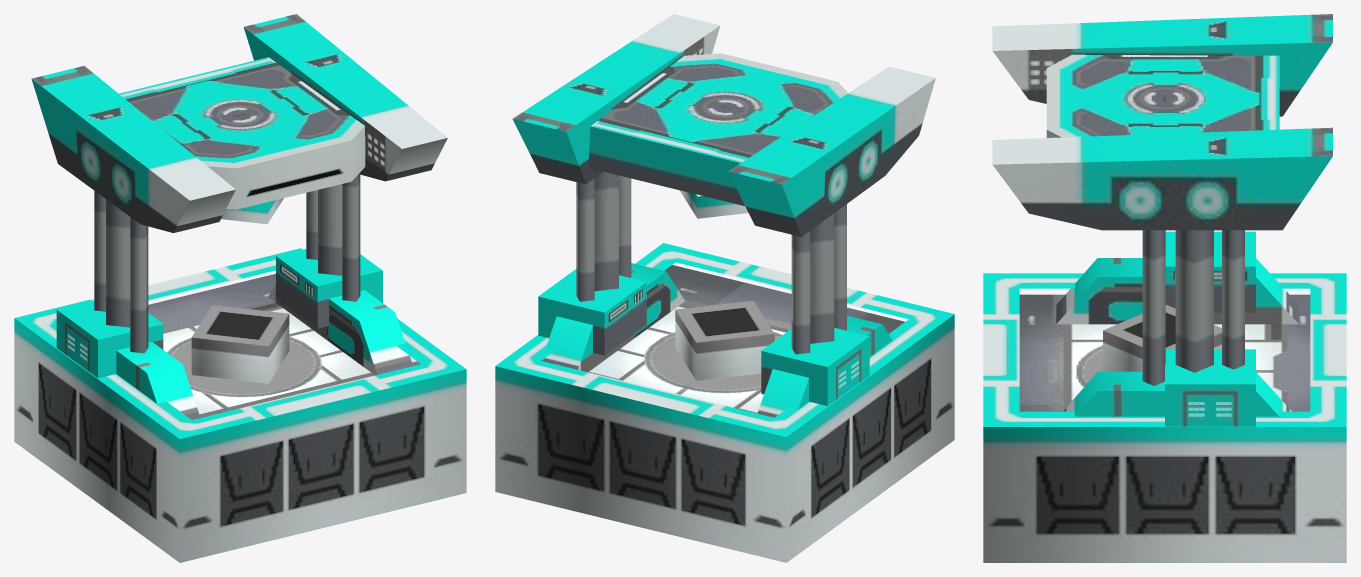
3 views of the same model, side by side, from view 1: azimuth 30°, elevation 25°; view 2: azimuth 150°, elevation 25°; view 3: azimuth 270°, elevation 25° (orthographic). The views are drawn at different scales.
Visible parts, largest first — view 1: assembler-mk-2-lod2; view 2: assembler-mk-2-lod2; view 3: assembler-mk-2-lod2.
Boxes of the visible parts, x1=… form: assembler-mk-2-lod2: x1=14, y1=14, x2=466, y2=562; assembler-mk-2-lod2: x1=495, y1=14, x2=954, y2=562; assembler-mk-2-lod2: x1=983, y1=14, x2=1346, y2=562.
Bounding box in the file's own units: 4 × 4.87 × 4.
1 material, 1 textured.
